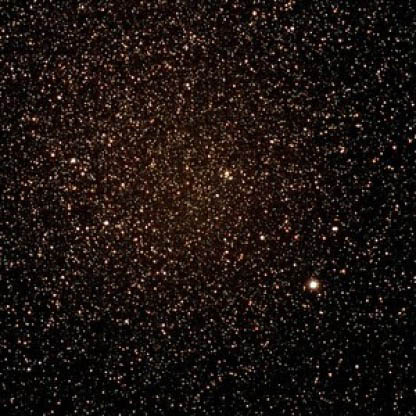Lyra: (250, 224, 271, 248), (301, 273, 321, 298), (319, 218, 342, 238), (93, 213, 115, 233), (65, 149, 82, 173), (216, 165, 235, 184)
